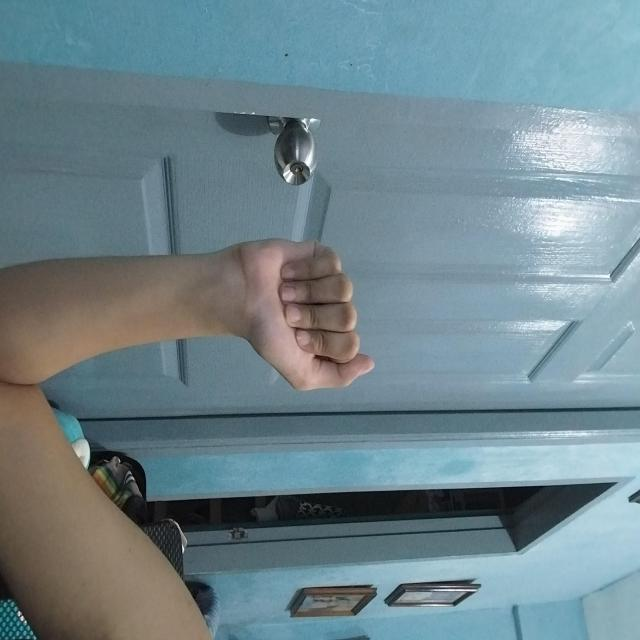A: (238, 266, 397, 396)
